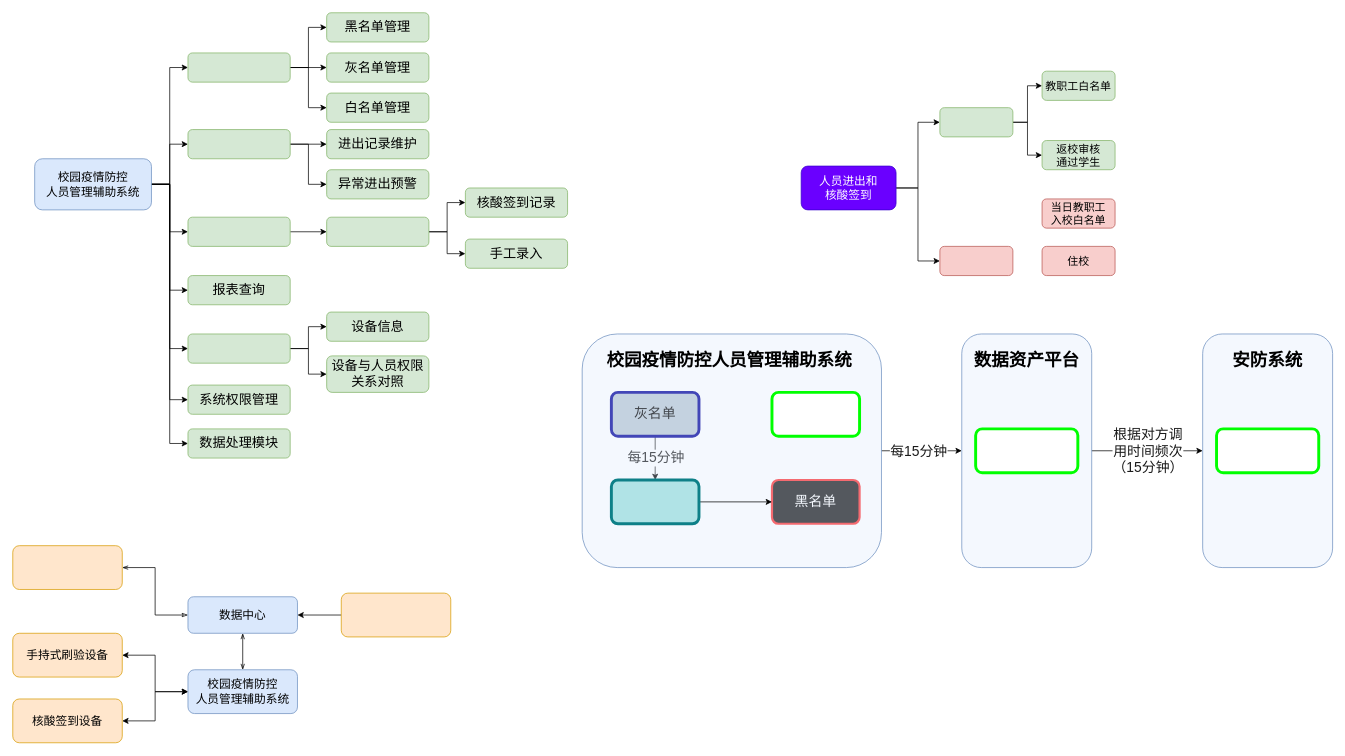
This 1345x756 diagram has some shape labels left out. The shapes that lost their labels are listed below. From the top down, each one's centre as x and y in pixels, then its label:
[238,67]: 进出名单管理
[976,122]: 人员进出
[238,144]: 进出记录查询
[238,231]: 核酸签到管理
[377,231]: 核酸名单管理
[976,261]: 核酸签到
[238,348]: 系统配置
[815,414]: 白名单
[1026,450]: 安防用户接口
[1267,450]: 速通门
[655,501]: 进出记录
[67,567]: 校门道闸
[396,614]: 返校申请应用
